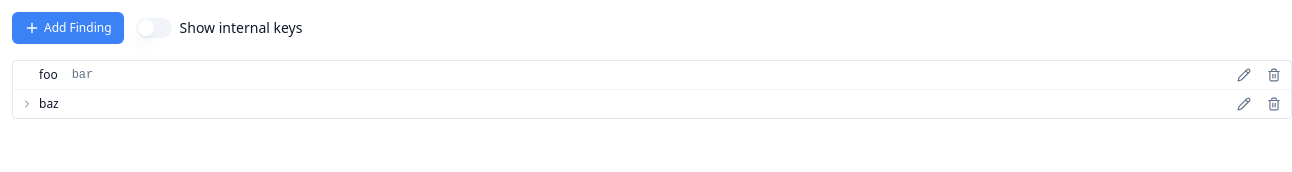
Test case: ProjectFindingsTab › filtering › hides internal keys again when toggle is turned off
What coordinates should you click on to do the following:
click the switch
I would click on:
 (154, 28)
Its box is [136,18,172,38].
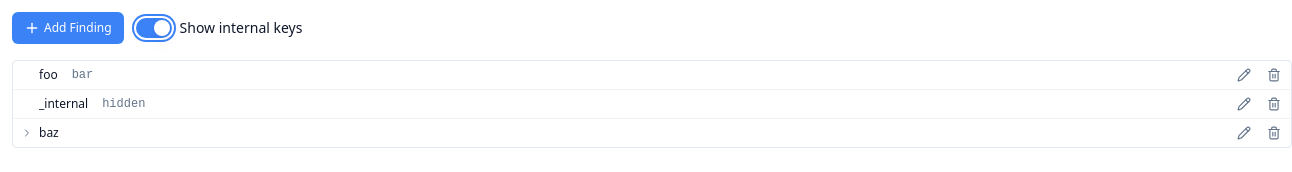
Expected: the text "_internal" is shown, [39,96,88,112]
What coordinates should you click on to do the following:
click the switch
I would click on:
 (154, 28)
Its box is [136,18,172,38].
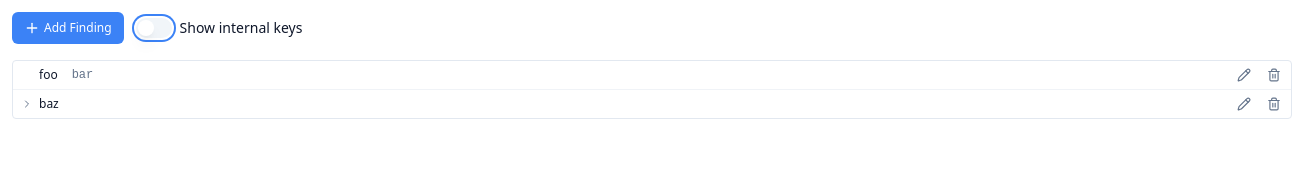
Expected: the button "_internal" is gone
